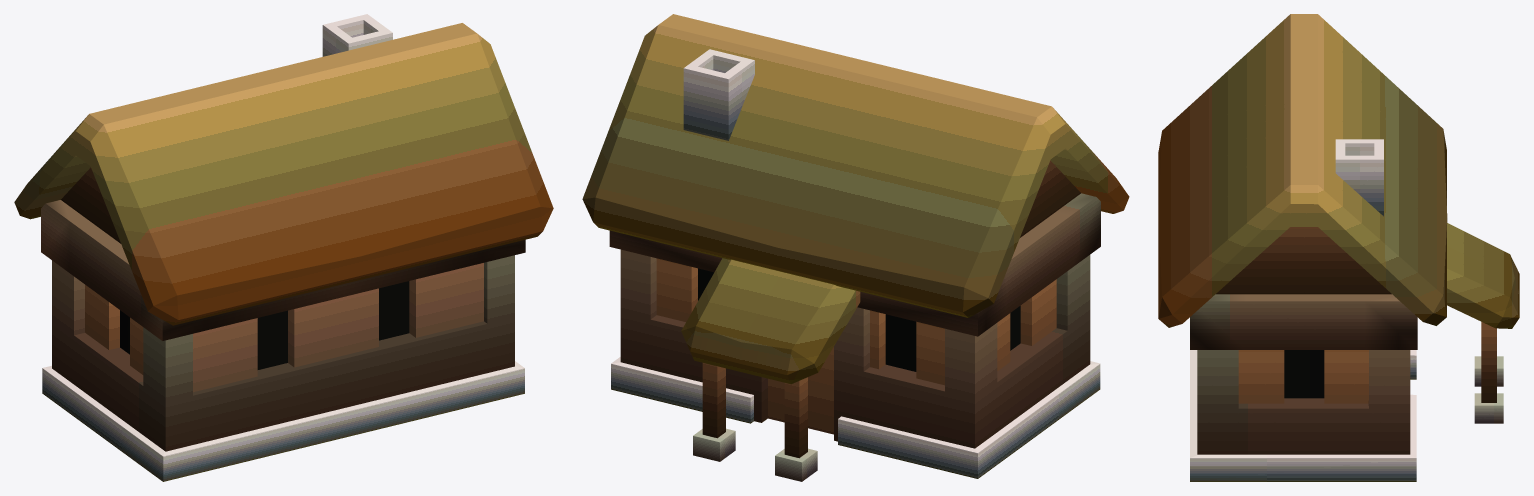
Rendered from simple_low_poly_farm_house_lvl3.glb.
The picture shows the model from 3 angles, left to right: view 1: azimuth 30°, elevation 25°; view 2: azimuth 150°, elevation 25°; view 3: azimuth 270°, elevation 25°; orthographic projection. The views are drawn at different scales.
Parts seen in each view (by area): view 1: farm_house_lvl3_Material #25_0; view 2: farm_house_lvl3_Material #25_0; view 3: farm_house_lvl3_Material #25_0.
Boxes of the visible parts, x1,y1,x2,y2 form: farm_house_lvl3_Material #25_0: (14, 14, 553, 481); farm_house_lvl3_Material #25_0: (582, 14, 1129, 481); farm_house_lvl3_Material #25_0: (1158, 14, 1519, 481).
Size of the model in its own units: 4.49 by 3.43 by 3.75.
1 material, 1 textured.
